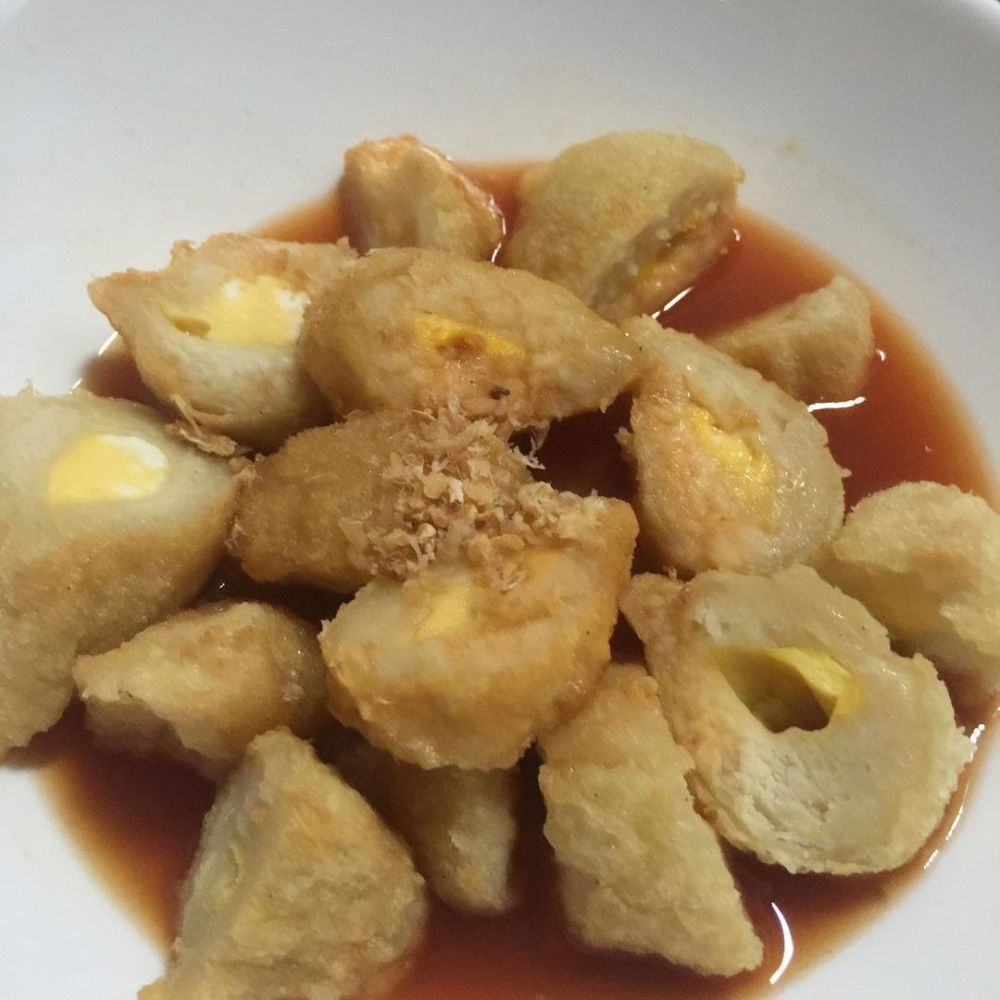pempek: (1, 130, 1000, 1000)
